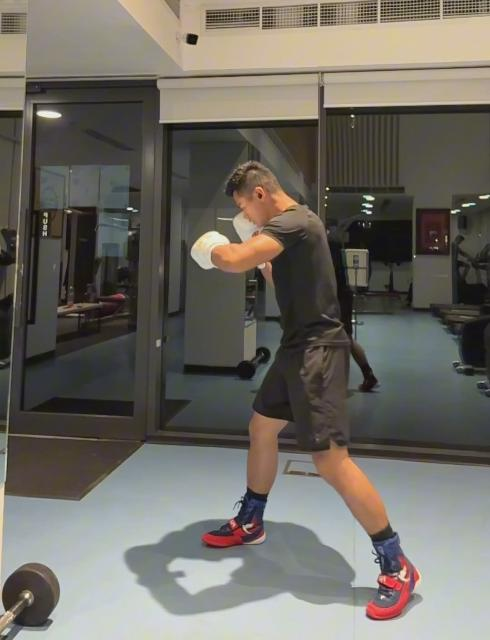punch: (189, 156, 425, 626)
